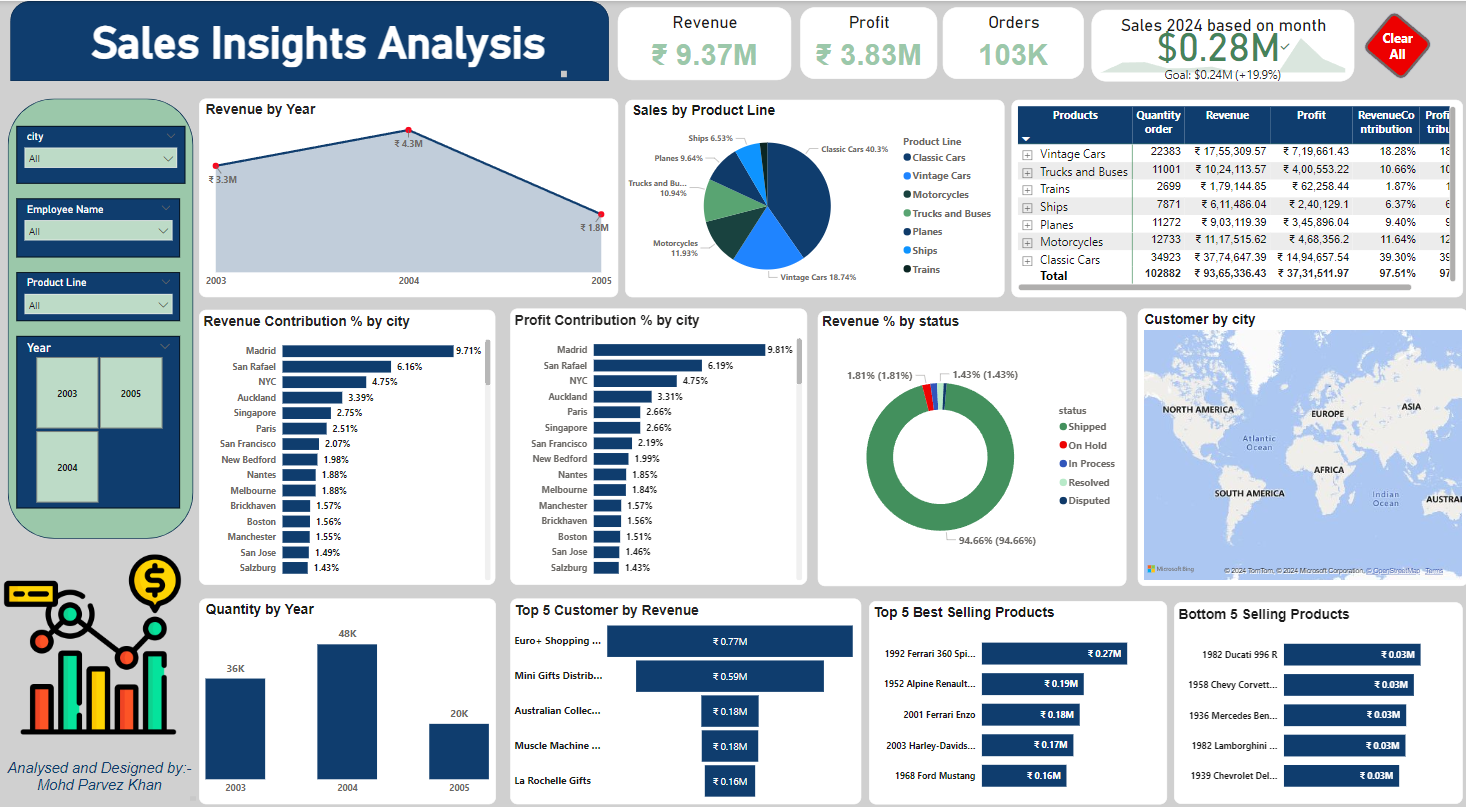

What the dashboard file says about the page in this screenshot:
{"tool":"powerbi","page":{"name":"Page 1","canvas":[2000,1100],"ordinal":0},"visuals":[{"type":"shape","box":[11.1,132.7,252.5,599],"z":0},{"type":"barChart","title":"Top 5 Best Selling Products","fields":{"Y":["Basic measures.Revenue"],"Category":["products.productName"]},"box":[1183.3,816.5,405.5,276.5],"z":1000},{"type":"pieChart","fields":{"Category":["productlines.productLine"],"Y":["order details.Sales"]},"box":[852.1,134.4,516,268.9],"z":2000},{"type":"pivotTable","fields":{"Rows":["productlines.productLine","products.productName"],"Values":["order details.quantityOrdered","Basic measures.Revenue","Basic measures.T_Profit","Basic measures.RevenueContribution","Basic measures.ProfitContribution"]},"box":[1377.2,134.4,614.1,268.9],"z":3000},{"type":"kpi","title":"Sales 2024 based on month","fields":{"TrendLine":["orders.orderMonth"],"Goal":["orders.sales_2003"],"Indicator":["orders.sales_2004"]},"box":[1485.6,11.1,357.6,97.7],"z":4000},{"type":"columnChart","fields":{"Y":["order details.quantityOrdered"],"Category":["orders.orderYear"]},"box":[272.8,812.8,403.7,280.2],"z":5000},{"type":"filledMap","title":"Customer by city","fields":{"Category":["customers.city"]},"box":[1550.1,418.4,449.7,377.9],"z":6000},{"type":"card","title":"Profit","fields":{"Values":["Basic measures.TotalProfit"]},"box":[1089.3,9.2,186.2,97.7],"z":7000},{"type":"card","title":"Orders","fields":{"Values":["order details.quantityOrdered"]},"box":[1284.7,9.2,191.7,97.7],"z":8000},{"type":"card","title":"Revenue","fields":{"Values":["Basic measures.Revenue"]},"box":[842.3,9.2,235.9,99.5],"z":9000},{"type":"slicer","fields":{"Values":["offices.city"]},"box":[23.8,170.1,229.6,78.2],"z":10000},{"type":"slicer","fields":{"Values":["productlines.productLine"]},"box":[23.8,369,222.8,66.3],"z":11000},{"type":"slicer","fields":{"Values":["employees.EmpFullName"]},"box":[23.8,268.7,222.8,79.9],"z":12000},{"type":"barChart","title":"Bottom 5 Selling Products","fields":{"Y":["Basic measures.Revenue"],"Category":["products.productName"]},"box":[1598,818.4,392.6,274.6],"z":13000},{"type":"donutChart","title":"Revenue % by status","fields":{"Category":["orders.status"],"Y":["Divide(Basic measures.Revenue, ScopedEval(Basic measures.Revenue, []))"]},"box":[1113.3,422,420.2,374.2],"z":14000},{"type":"areaChart","title":"Revenue by Year","fields":{"Category":["orders.orderYear"],"Y":["Basic measures.Revenue"]},"box":[272.5,132.6,570.5,270.7],"z":15000},{"type":"barChart","title":"Revenue Contribution % by city","fields":{"Category":["customers.city"],"Y":["Basic measures.RevenueContribution"]},"box":[272.5,419.7,403.3,374.3],"z":16000},{"type":"barChart","title":"Profit Contribution % by city","fields":{"Category":["customers.city"],"Y":["Basic measures.ProfitContribution"]},"box":[694.9,418.4,403.7,376],"z":17000},{"type":"funnel","title":"Top 5 Customer by Revenue","fields":{"Y":["Basic measures.Revenue"],"Category":["customers.customerName"]},"box":[694.9,812.8,477.4,280.2],"z":18000},{"type":"slicer","fields":{"Values":["orders.orderYear"]},"box":[23.8,455.8,222.8,234.7],"z":19000},{"type":"actionButton","box":[1806.3,11.1,193.5,97.7],"z":20000},{"type":"shape","box":[15.3,0,814.6,108.8],"z":21000},{"type":"textbox","title":"Sales Insights Analysis","box":[92.2,22.1,685.7,86.6],"z":22000},{"type":"image","box":[0,748.3,254.4,254.4],"z":22001},{"type":"textbox","title":"Analysed and Designed by:-  Mohd Parvez Khan","box":[0,1032.2,272.8,60.8],"z":22002}]}

Visuals, with their boxes in screenshot pixels (x1, y1, x2, y2), scaled from the page's 2000x1100 canvas onto the 1466x807 screenshot:
shape: box(8, 97, 193, 537)
"Top 5 Best Selling Products" barChart: box(867, 599, 1165, 802)
pieChart - productlines.productLine x order details.Sales: box(625, 99, 1003, 296)
pivotTable - productlines.productLine x products.productName: box(1009, 99, 1460, 296)
"Sales 2024 based on month" kpi: box(1089, 8, 1351, 80)
columnChart - order details.quantityOrdered x orders.orderYear: box(200, 596, 496, 802)
"Customer by city" filledMap: box(1136, 307, 1465, 584)
"Profit" card: box(798, 7, 935, 78)
"Orders" card: box(942, 7, 1082, 78)
"Revenue" card: box(617, 7, 790, 80)
slicer - offices.city: box(17, 125, 186, 182)
slicer - productlines.productLine: box(17, 271, 181, 319)
slicer - employees.EmpFullName: box(17, 197, 181, 256)
"Bottom 5 Selling Products" barChart: box(1171, 600, 1459, 802)
"Revenue % by status" donutChart: box(816, 310, 1124, 584)
"Revenue by Year" areaChart: box(200, 97, 618, 296)
"Revenue Contribution % by city" barChart: box(200, 308, 495, 583)
"Profit Contribution % by city" barChart: box(509, 307, 805, 583)
"Top 5 Customer by Revenue" funnel: box(509, 596, 859, 802)
slicer - orders.orderYear: box(17, 334, 181, 507)
actionButton: box(1324, 8, 1465, 80)
shape: box(11, 0, 608, 80)
"Sales Insights Analysis" textbox: box(68, 16, 570, 80)
image: box(0, 549, 186, 736)
"Analysed and Designed by:-  Mohd Parvez Khan" textbox: box(0, 757, 200, 802)
